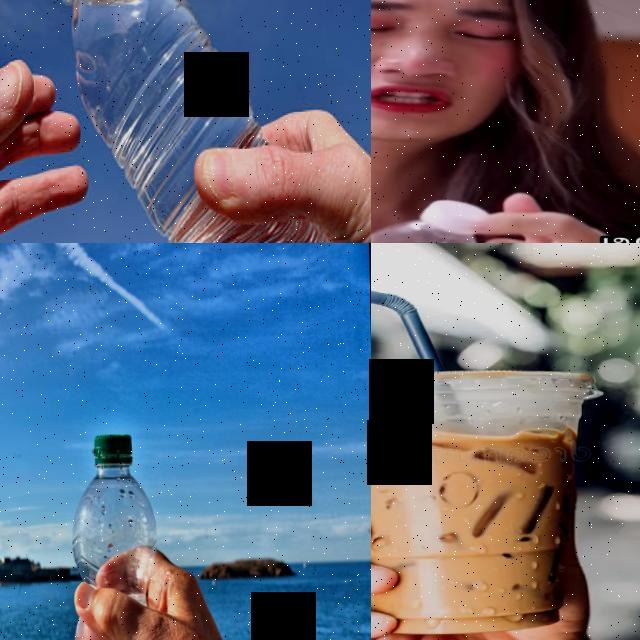bottle: (46, 0, 370, 243), (67, 431, 163, 640)
cup: (371, 367, 608, 638)
